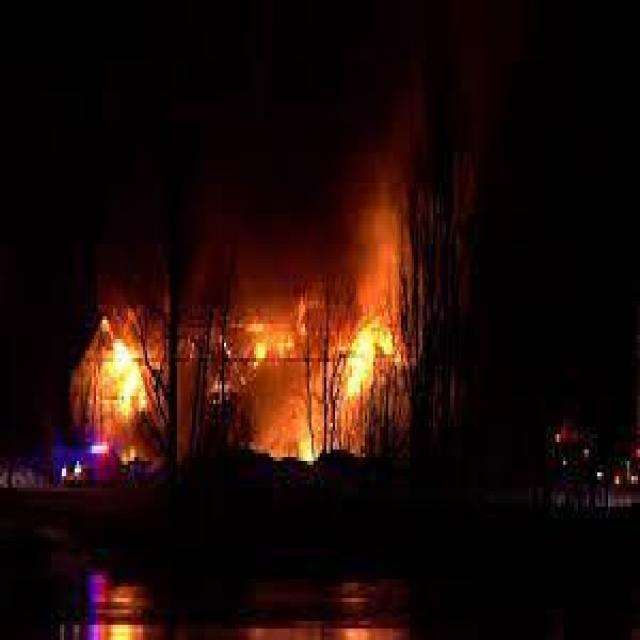fire: (177, 213, 424, 463), (72, 300, 173, 461)
